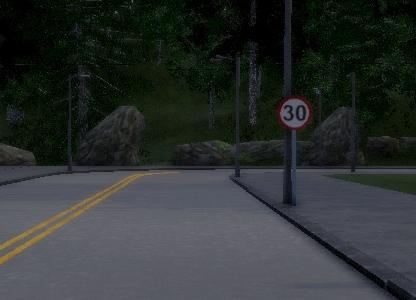Speed_30: (279, 94, 313, 129)
